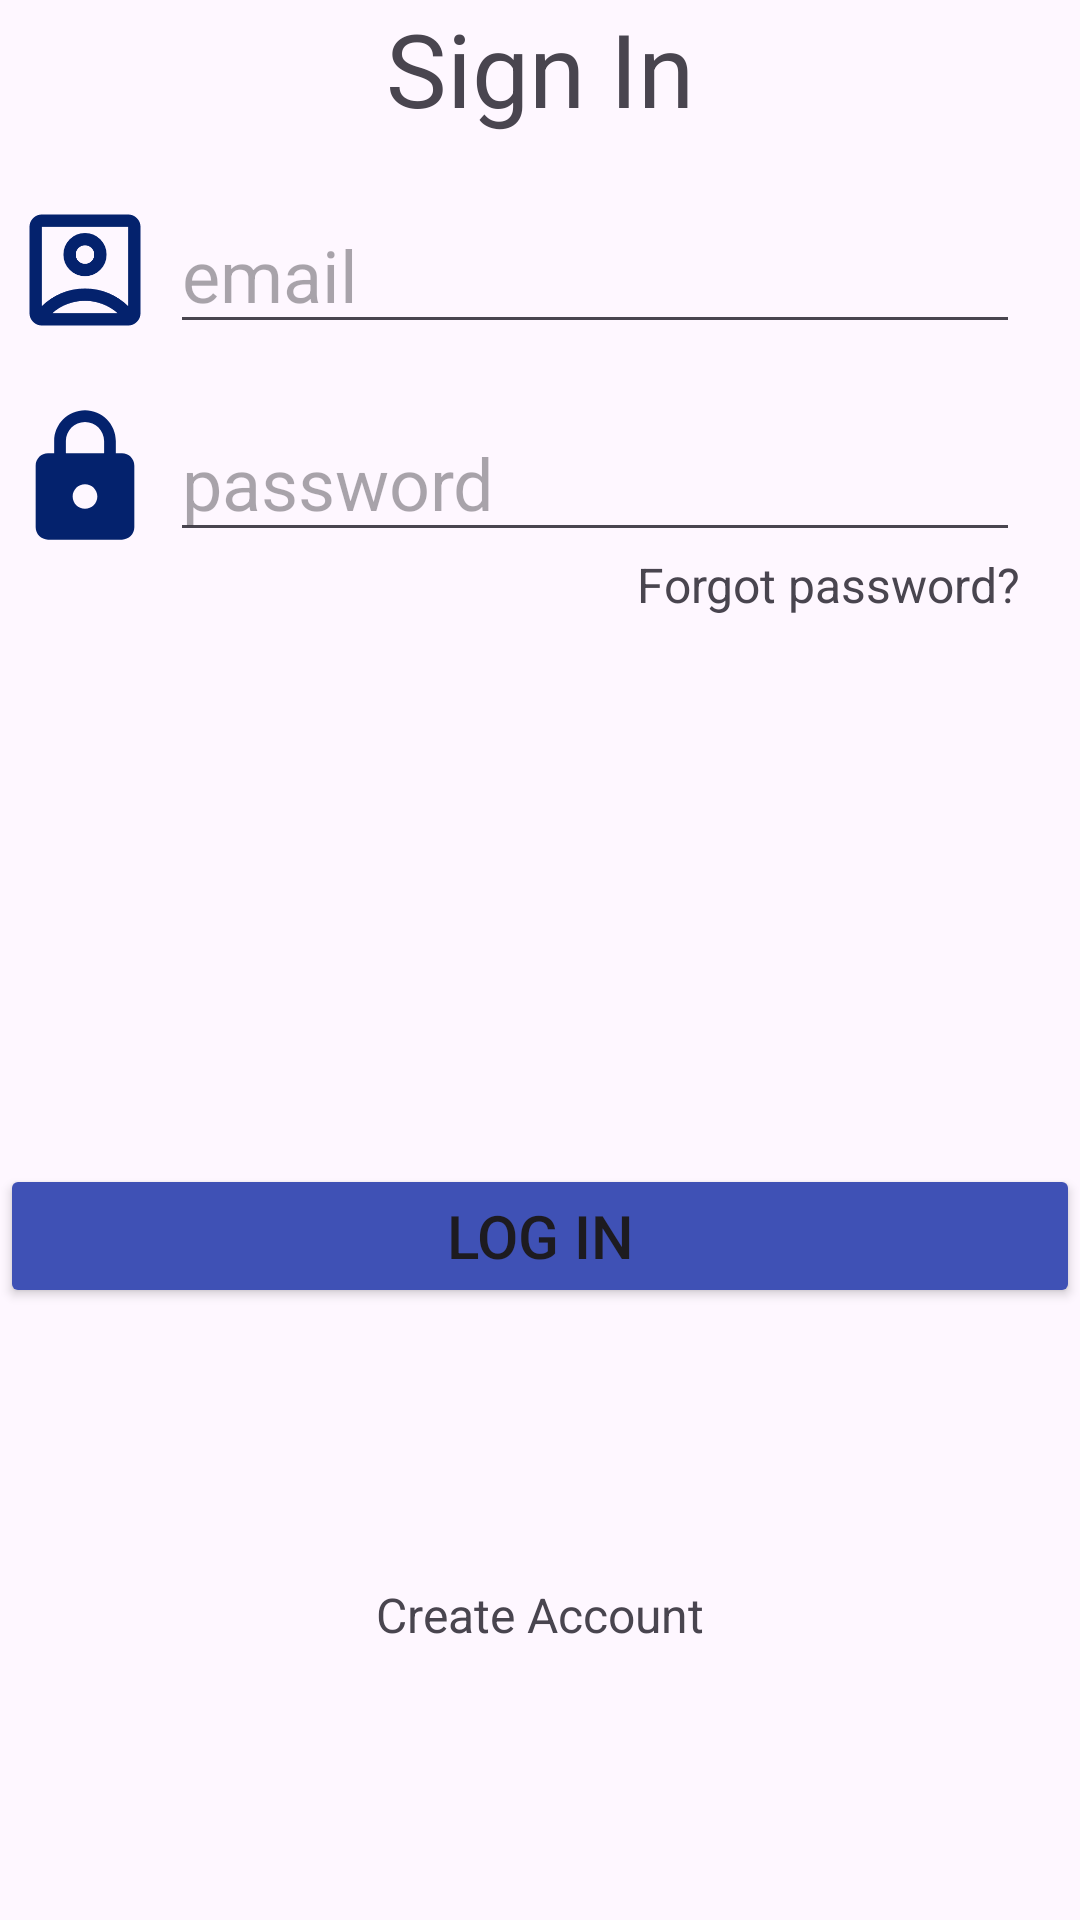

Where icons sit on this 1080×1920 app screen, as (x1, y1, x2, y2):
lock: (35, 410, 135, 540)
useraccountbox: (29, 214, 141, 326)
